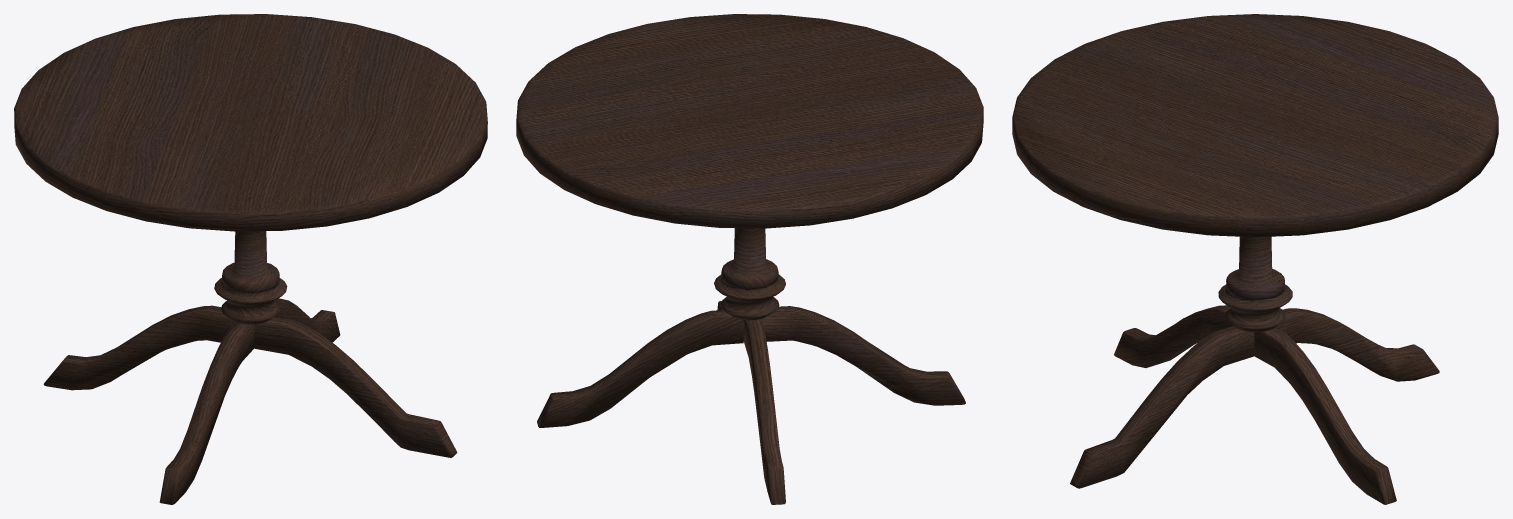
The model's file is table_001.glb.
3 renders of one model, left to right at view 1: azimuth 30°, elevation 25°; view 2: azimuth 150°, elevation 25°; view 3: azimuth 270°, elevation 25°, orthographic. The views are drawn at different scales.
Parts seen in each view (by area): view 1: table_001; view 2: table_001; view 3: table_001.
Boxes of the visible parts, x1,y1,x2,y2 form: table_001: (14, 14, 487, 504); table_001: (516, 14, 983, 504); table_001: (1012, 14, 1498, 504).
Bounding box in the file's own units: 1.4 × 0.9988 × 1.4.
1 material, 1 textured.
